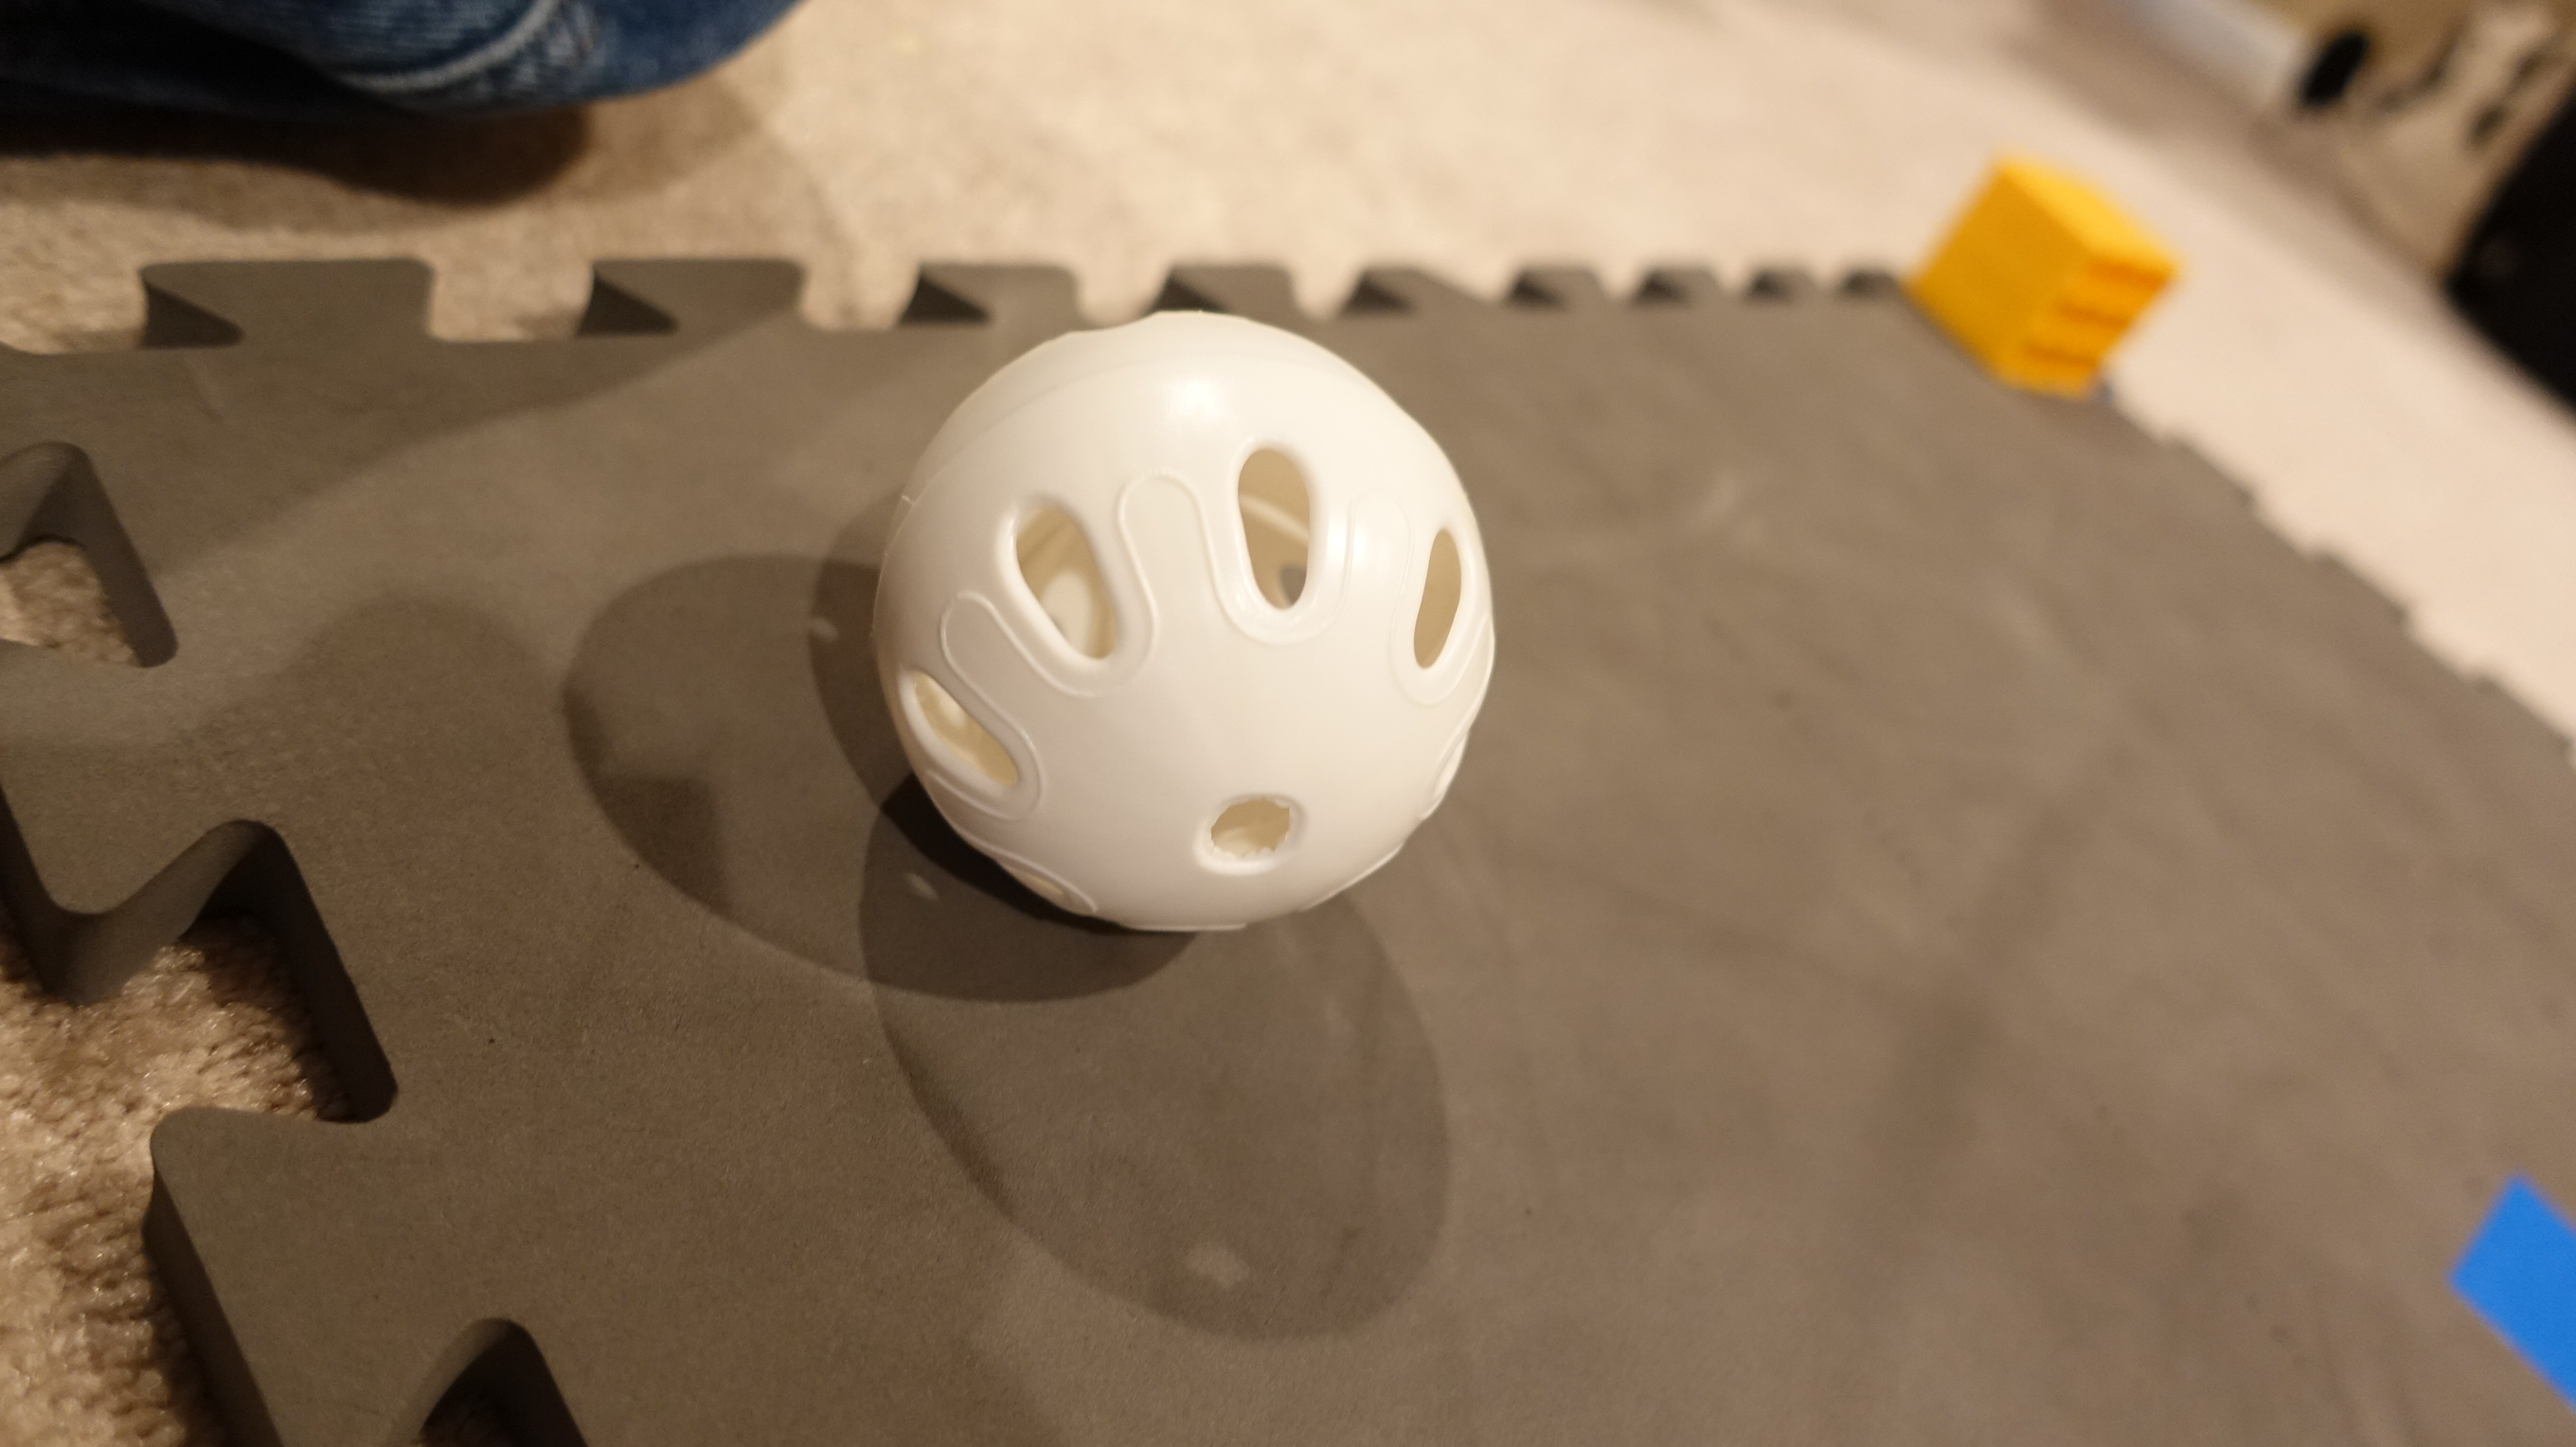gold: (1897, 149, 2192, 410)
silver: (865, 302, 1495, 943)
